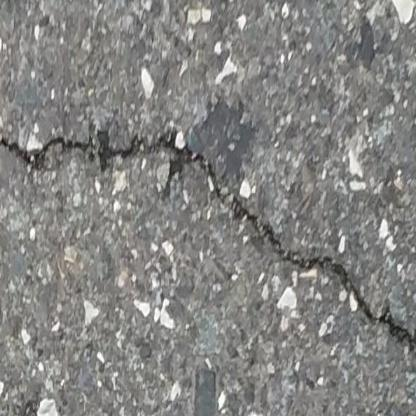Cracks: (0, 121, 416, 379)
